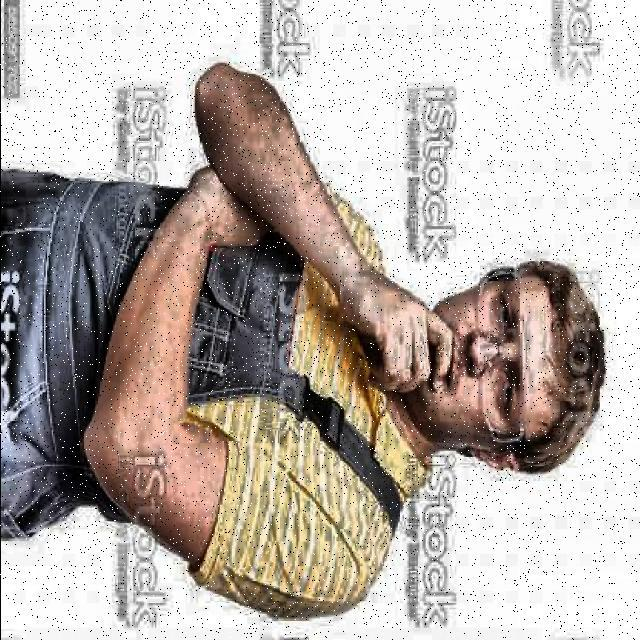Goggles: (468, 250, 530, 468)
